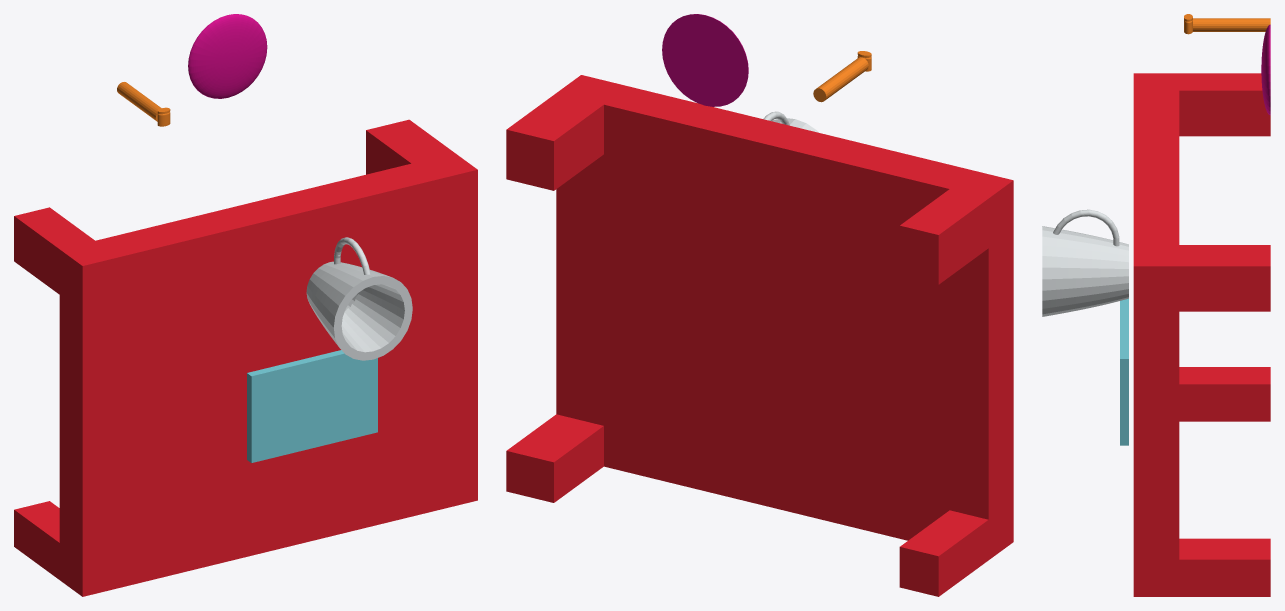
File: tinker.obj
3 views of the same model, side by side, from view 1: azimuth 30°, elevation 25°; view 2: azimuth 150°, elevation 25°; view 3: azimuth 270°, elevation 25° (orthographic). The views are drawn at different scales.
Visible parts, largest first — view 1: group_0_15277357, group_0_7720667, group_0_14541540, group_0_14093196, group_0_16089887; view 2: group_0_15277357, group_0_14093196, group_0_16089887; view 3: group_0_15277357, group_0_14541540, group_0_7720667, group_0_16089887, group_0_14093196.
Boxes of the visible parts, x1,y1,x2,y2 form: group_0_15277357: [14, 119, 477, 596]; group_0_7720667: [247, 350, 377, 462]; group_0_14541540: [306, 237, 412, 360]; group_0_14093196: [188, 14, 267, 98]; group_0_16089887: [117, 82, 170, 126]; group_0_15277357: [506, 75, 1013, 596]; group_0_14093196: [662, 14, 748, 106]; group_0_16089887: [813, 51, 871, 102]; group_0_15277357: [1133, 73, 1270, 596]; group_0_14541540: [1042, 209, 1128, 316]; group_0_7720667: [1120, 298, 1128, 445]; group_0_16089887: [1184, 14, 1270, 34]; group_0_14093196: [1261, 24, 1270, 115].
Size of the model in its own units: 100 by 116 by 50.
